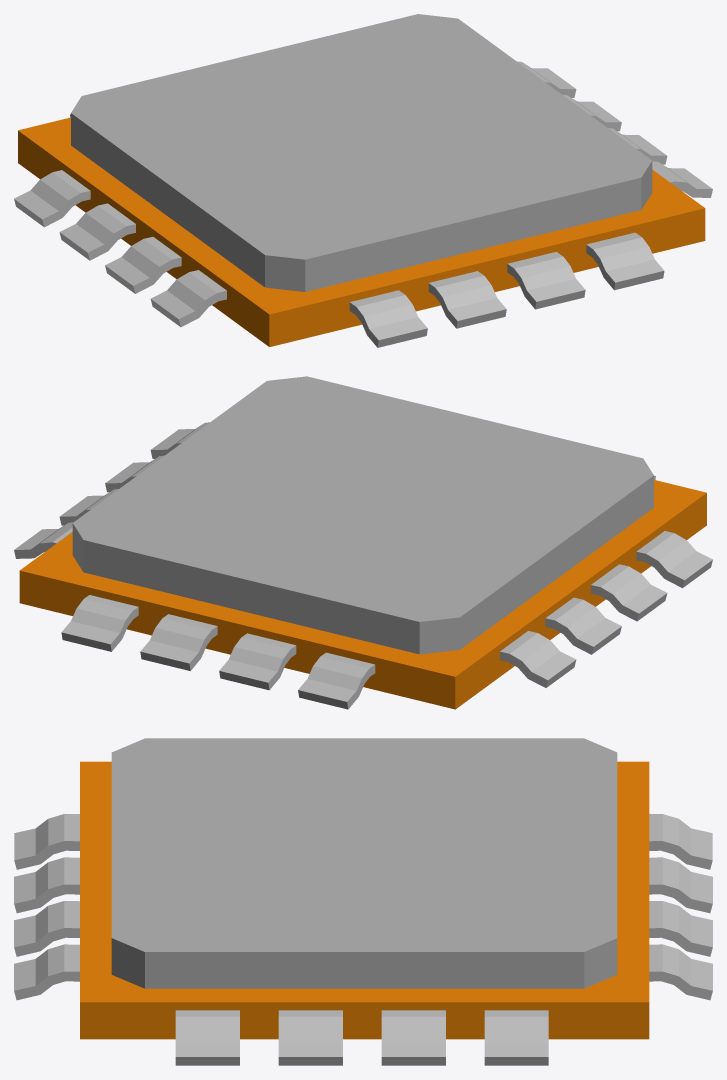
3 views of the same model, one above another, from view 1: azimuth 30°, elevation 25°; view 2: azimuth 150°, elevation 25°; view 3: azimuth 270°, elevation 25° (orthographic). The views are drawn at different scales.
Visible parts, largest first — view 1: Plane.002; view 2: Plane.002; view 3: Plane.002.
Boxes of the visible parts, left/top/right/bottom form: Plane.002: left=14, top=14, right=712, bottom=347; Plane.002: left=14, top=376, right=712, bottom=709; Plane.002: left=14, top=738, right=712, bottom=1065.
Size of the model in its own units: 5.77 by 0.672 by 5.78.
